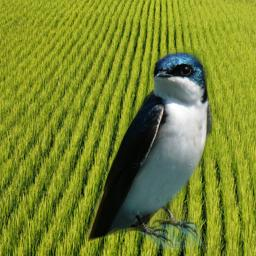Swallow: (88, 49, 216, 249)
